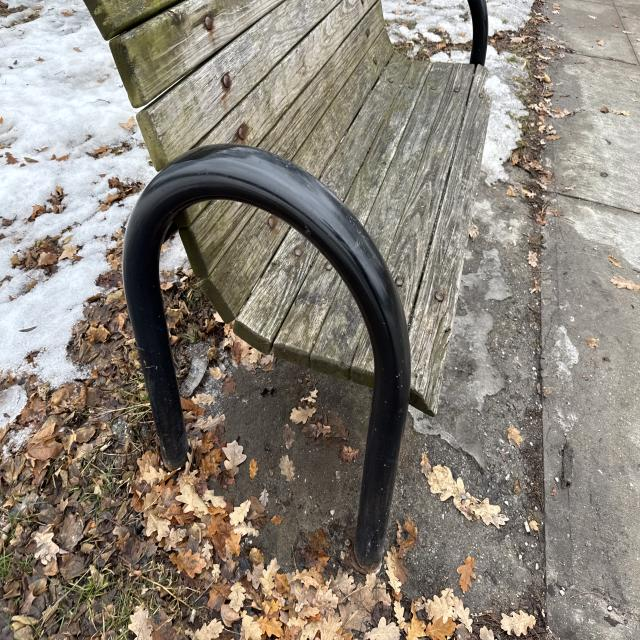Bench: (85, 0, 473, 502)
